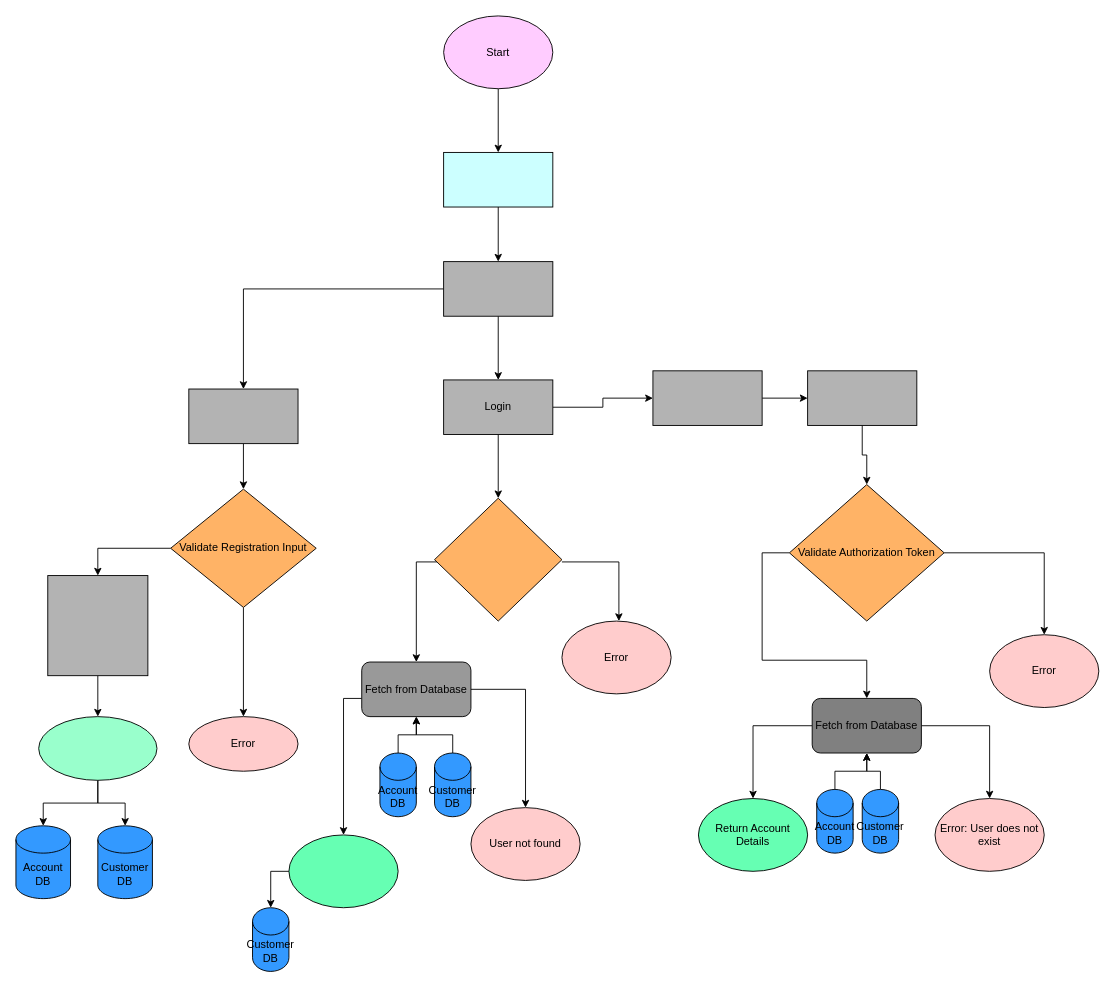
The diagram is 1115 pixels wide and 987 high, and some of its shapes have lost their labels. The shapes that lost their labels are listed below. From the top down, each one's centre as x and y in pixels, then its label:
At (x=498, y=179): "Rate Limiter (max. 2 req per sec)".
At (x=498, y=288): "API FLOWS".
At (x=243, y=416): "Registration".
At (x=707, y=397): "Client stores token".
At (x=862, y=397): "Overview".
At (x=498, y=559): "Validate Credentials".
At (x=97, y=625): "Valid data: Apply business validations".
At (x=97, y=748): "Generate password + IBAN. Save to database".
At (x=343, y=871): "Login Sucessful Generated token saved in DB".
